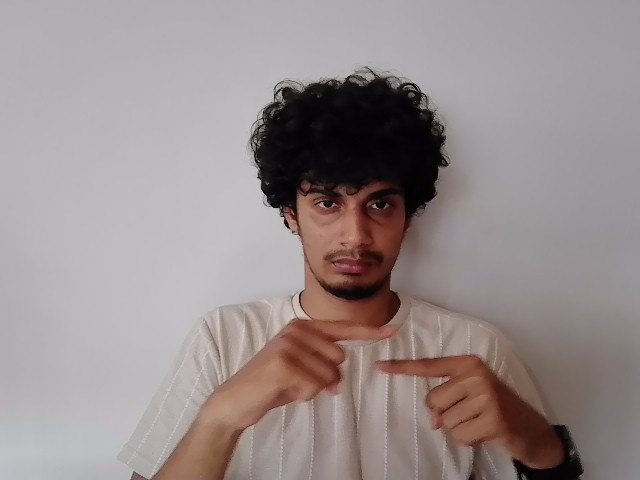about: (216, 316, 535, 459)
